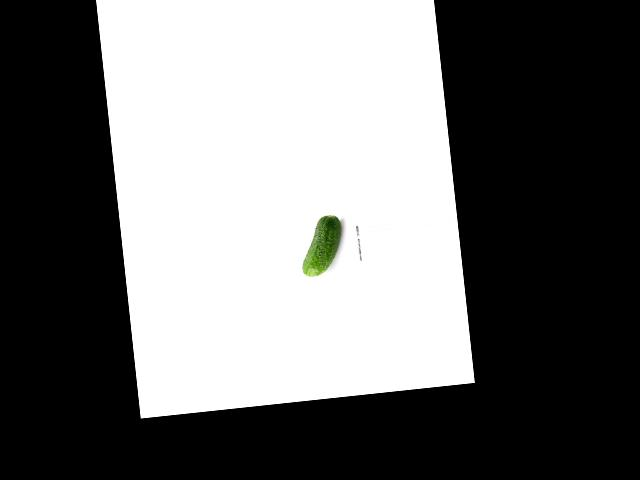cucumber: (297, 214, 346, 277)
